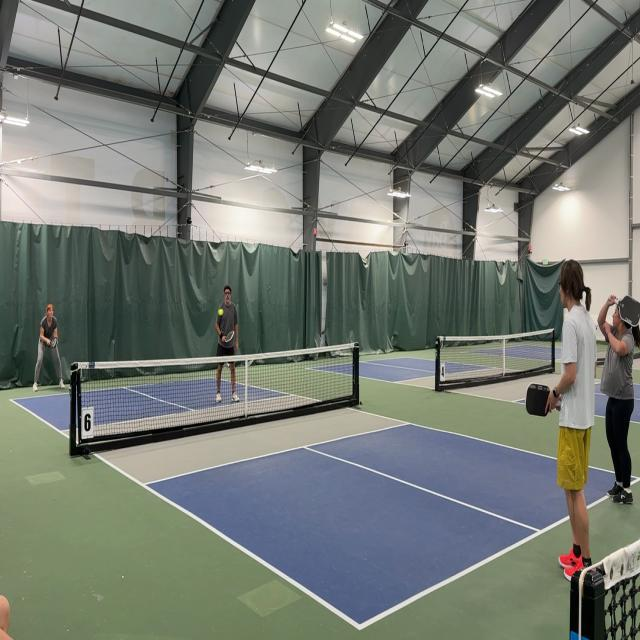ball: (218, 308, 224, 316)
